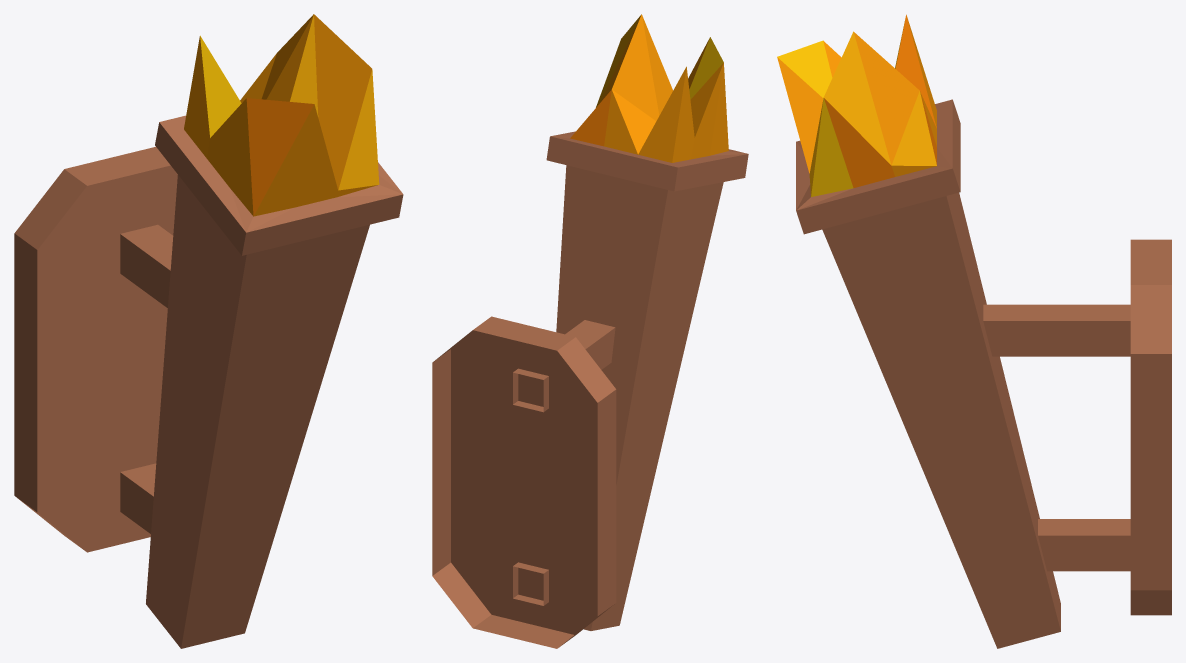
Rendered from Torch.gltf.
3 views of the same model, side by side, from view 1: azimuth 30°, elevation 25°; view 2: azimuth 150°, elevation 25°; view 3: azimuth 270°, elevation 25° (orthographic). The views are drawn at different scales.
Visible parts, largest first — view 1: Torch; view 2: Torch; view 3: Torch.
Part boxes in pixels (<box>): Torch: <box>14,14,403,648</box>; Torch: <box>432,14,748,648</box>; Torch: <box>777,14,1171,648</box>.
Bounding box in the file's own units: 0.1069 × 0.342 × 0.1998.
1 material, 1 textured.
